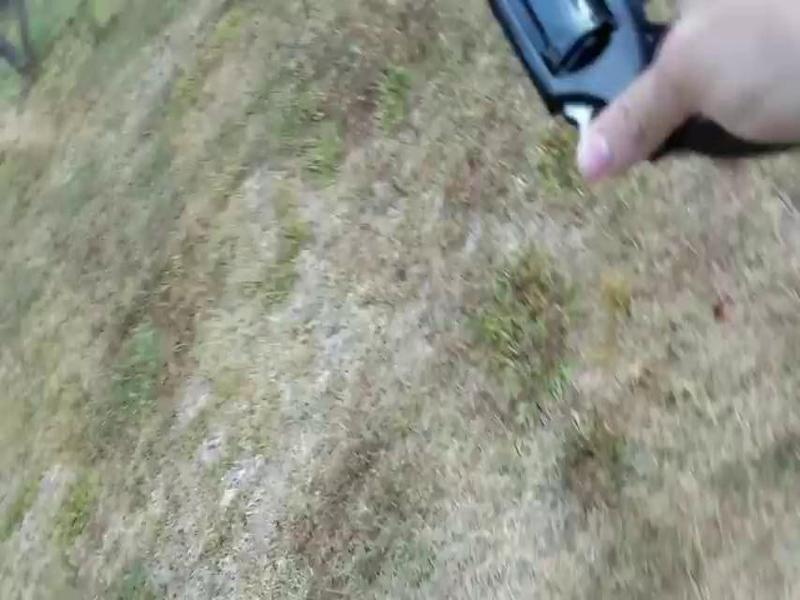Revolver: (452, 1, 753, 172)
